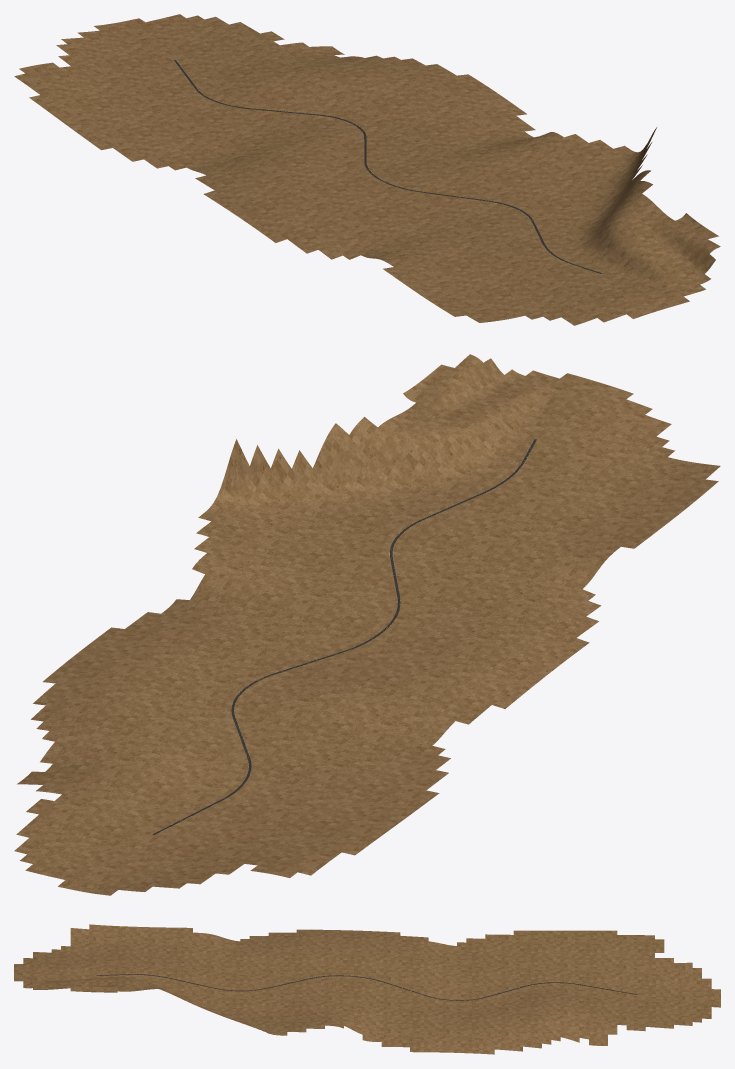
The picture shows the model from 3 angles, top to bottom: view 1: azimuth 30°, elevation 25°; view 2: azimuth 150°, elevation 25°; view 3: azimuth 270°, elevation 25°; orthographic projection. The views are drawn at different scales.
Visible parts, largest first — view 1: S02_TERRAIN_LOD1_WEB_EXPORT, S02_ROAD_ASPHALT_LOD1_WEB_EXPORT; view 2: S02_TERRAIN_LOD1_WEB_EXPORT, S02_ROAD_ASPHALT_LOD1_WEB_EXPORT; view 3: S02_TERRAIN_LOD1_WEB_EXPORT, S02_ROAD_ASPHALT_LOD1_WEB_EXPORT.
Boxes of the visible parts, left/top/right/bottom form: S02_TERRAIN_LOD1_WEB_EXPORT: left=14, top=14, right=720, bottom=325; S02_ROAD_ASPHALT_LOD1_WEB_EXPORT: left=174, top=60, right=602, bottom=273; S02_TERRAIN_LOD1_WEB_EXPORT: left=14, top=354, right=720, bottom=895; S02_ROAD_ASPHALT_LOD1_WEB_EXPORT: left=152, top=439, right=536, bottom=834; S02_TERRAIN_LOD1_WEB_EXPORT: left=14, top=924, right=720, bottom=1054; S02_ROAD_ASPHALT_LOD1_WEB_EXPORT: left=96, top=974, right=636, bottom=1000.
Size of the model in its own units: 1280 by 313 by 3000.
Materials: 7 (7 with a texture image).
